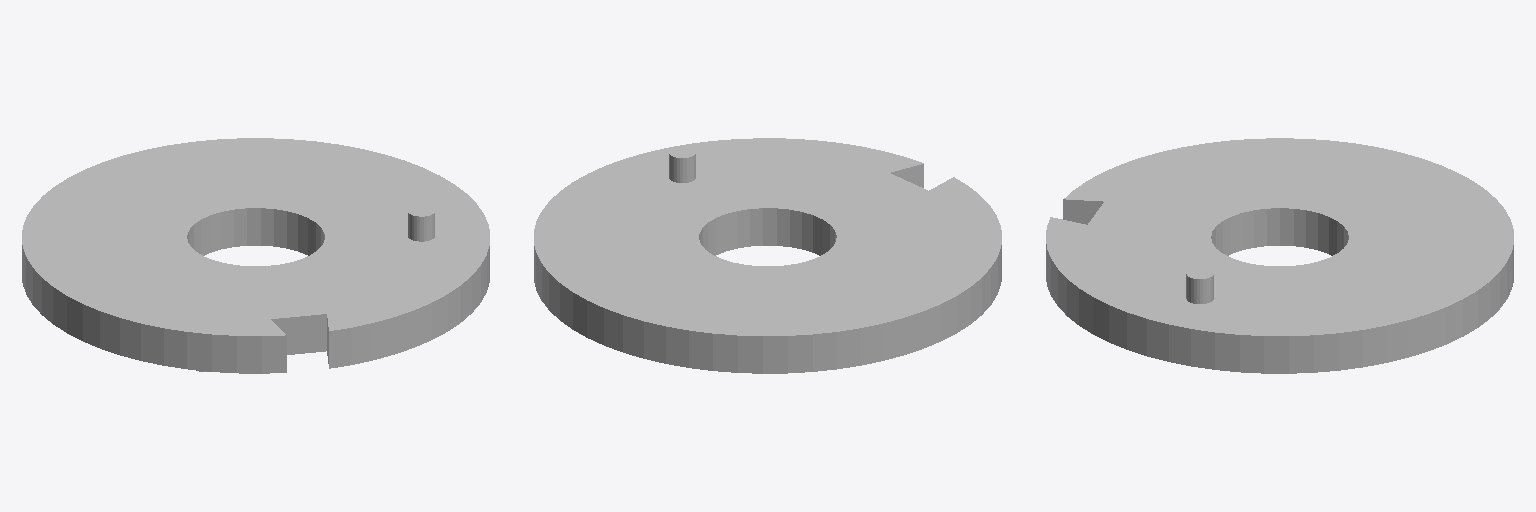
Rendered from wheel1.obj.
The picture shows the model from 3 angles: view 1: azimuth 30°, elevation 25°; view 2: azimuth 150°, elevation 25°; view 3: azimuth 270°, elevation 25°; orthographic projection.
Bounding box in the file's own units: 33.99 × 7 × 33.99.